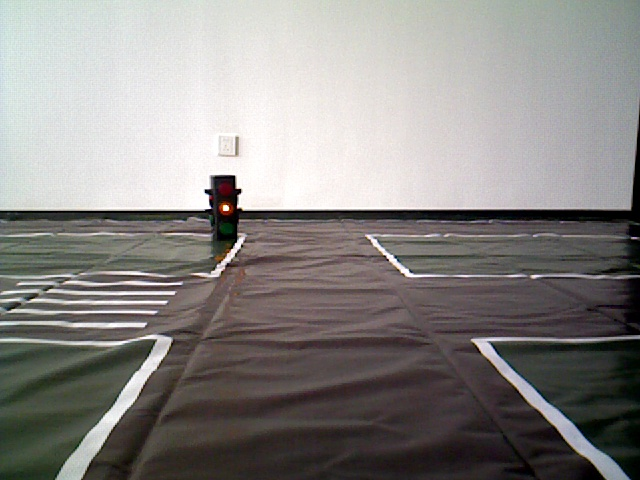yellow: (207, 175, 246, 241)
